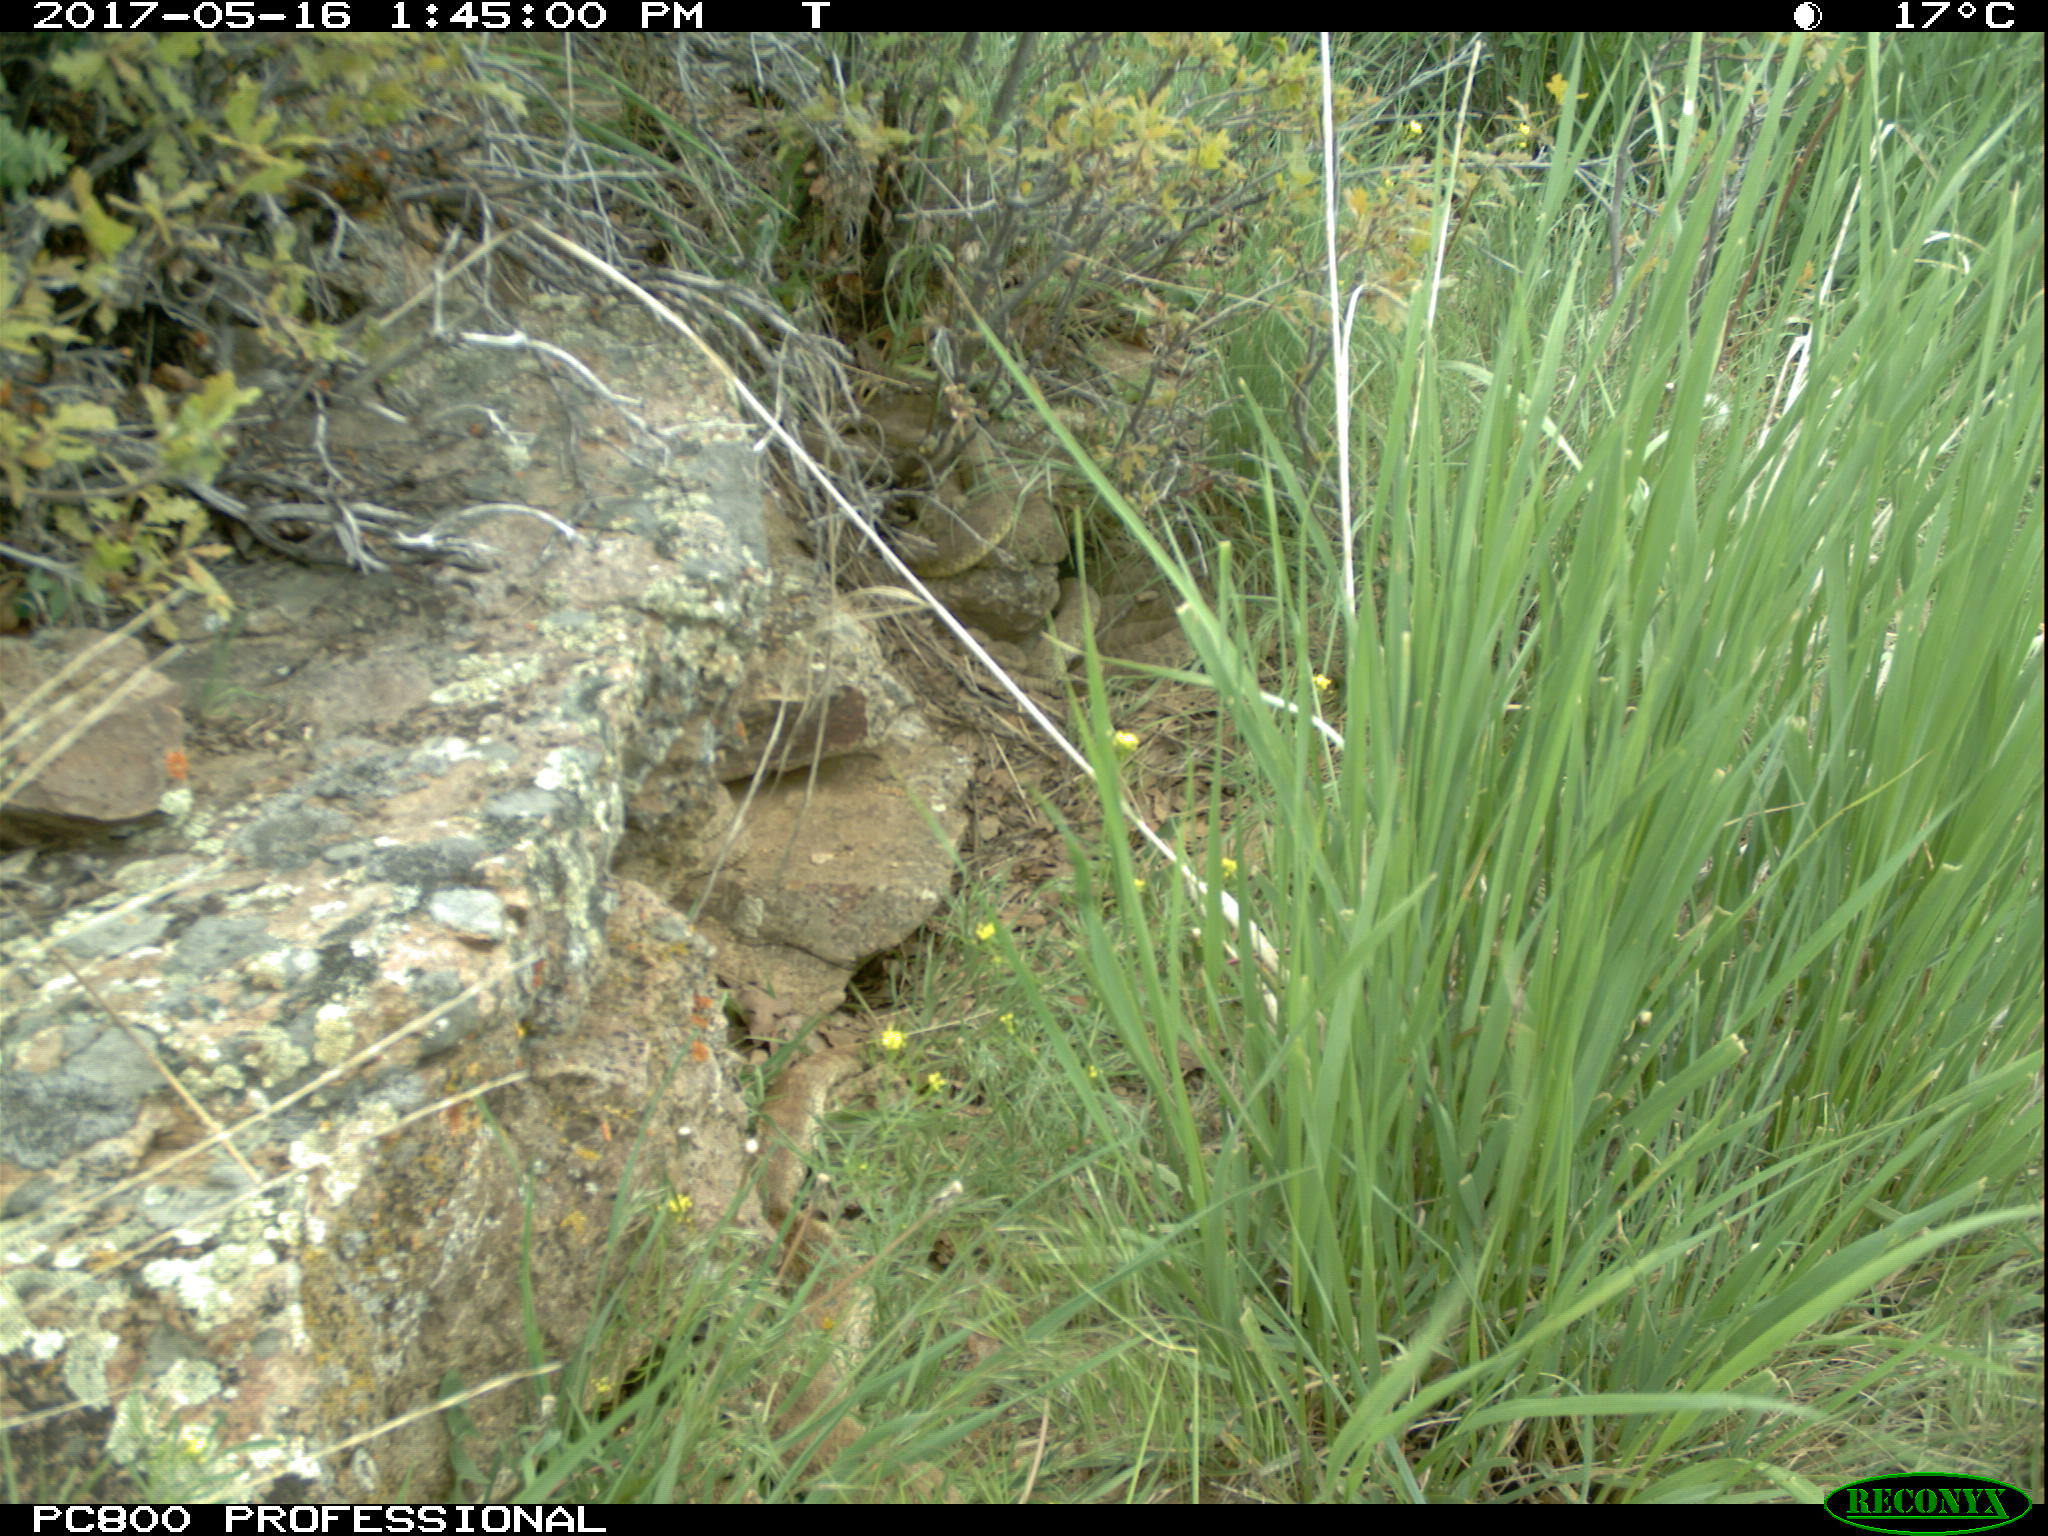snake: (751, 1052, 866, 1480), (885, 437, 1018, 578), (1042, 578, 1226, 678), (660, 778, 751, 873)
